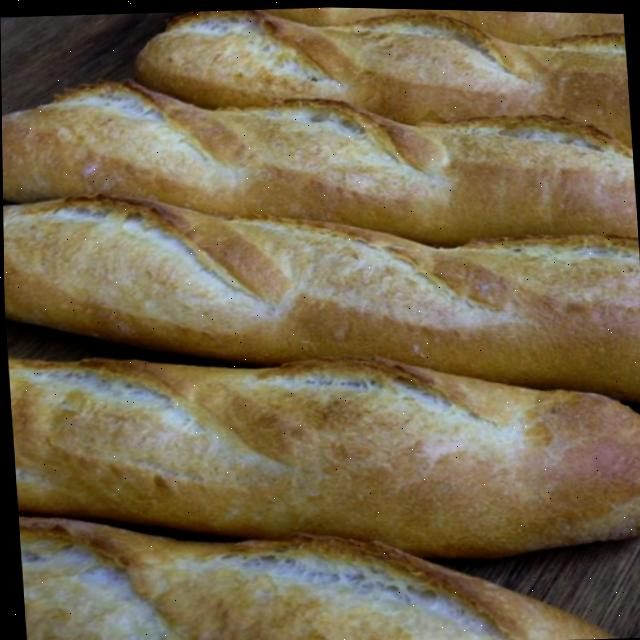汉堡快餐: (82, 1, 555, 563)
